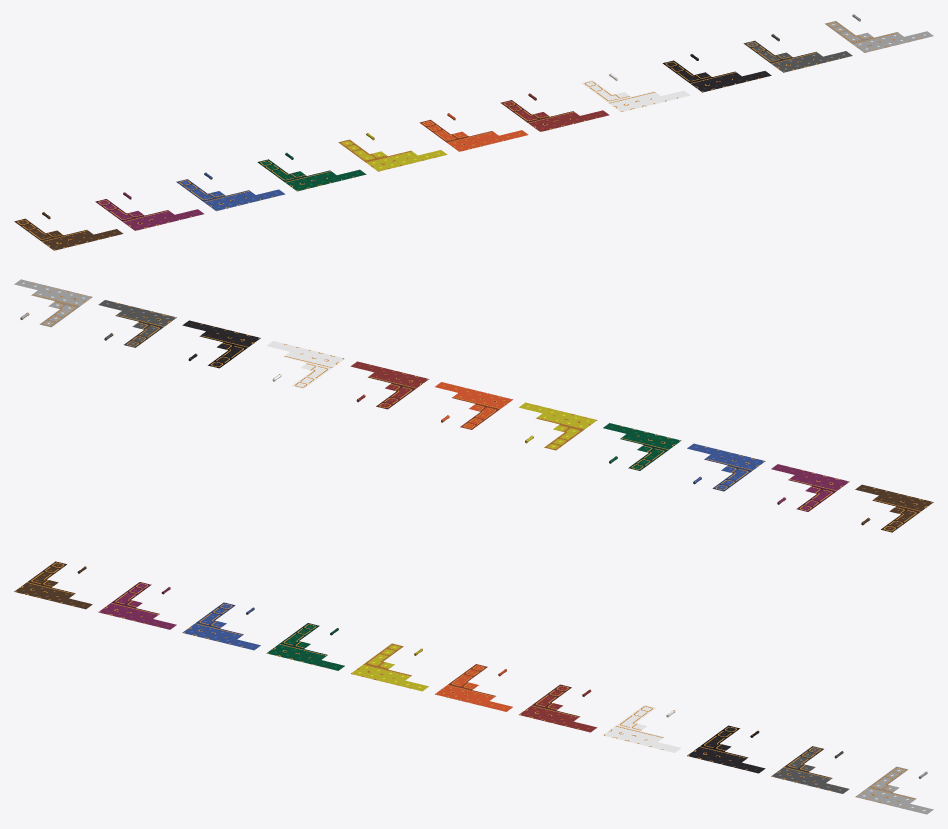
Rendered from FancyCarpet.fbx.
3 renders of one model, top to bottom at view 1: azimuth 30°, elevation 25°; view 2: azimuth 150°, elevation 25°; view 3: azimuth 330°, elevation 25°, orthographic. The views are drawn at different scales.
Size of the model in its own units: 76 by 0.21 by 6.
